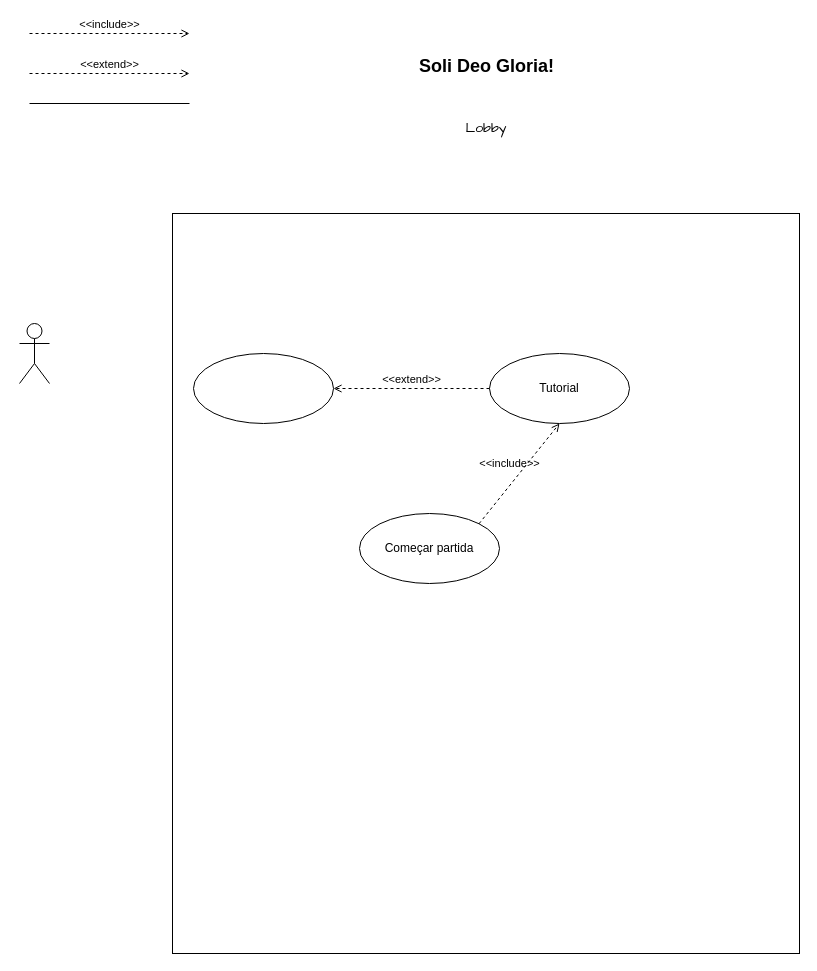
Image size: 817x971. Some labels were removed from this diagram. The shapes that lost their labels are listed below. From the top down, each one's centre as x and y in pixels, then its label:
At [34,353]: "Player".
At [263,388]: "Entrar no jogo".
